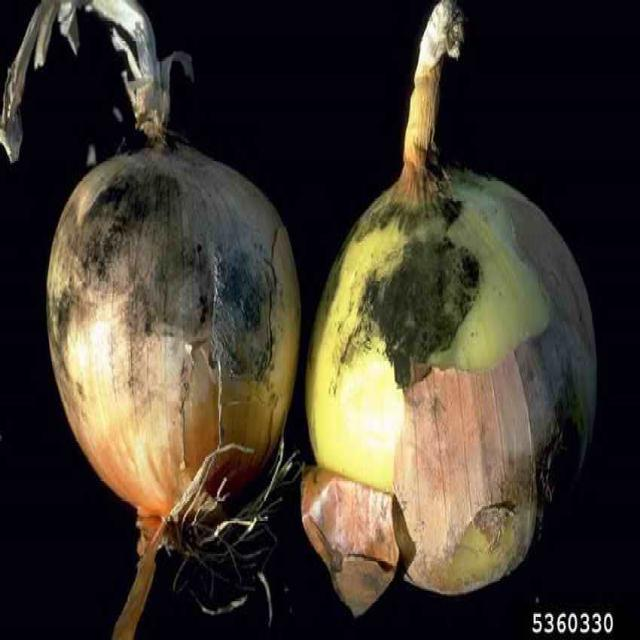mould: (134, 168, 257, 354), (371, 258, 477, 371), (54, 188, 128, 315)
